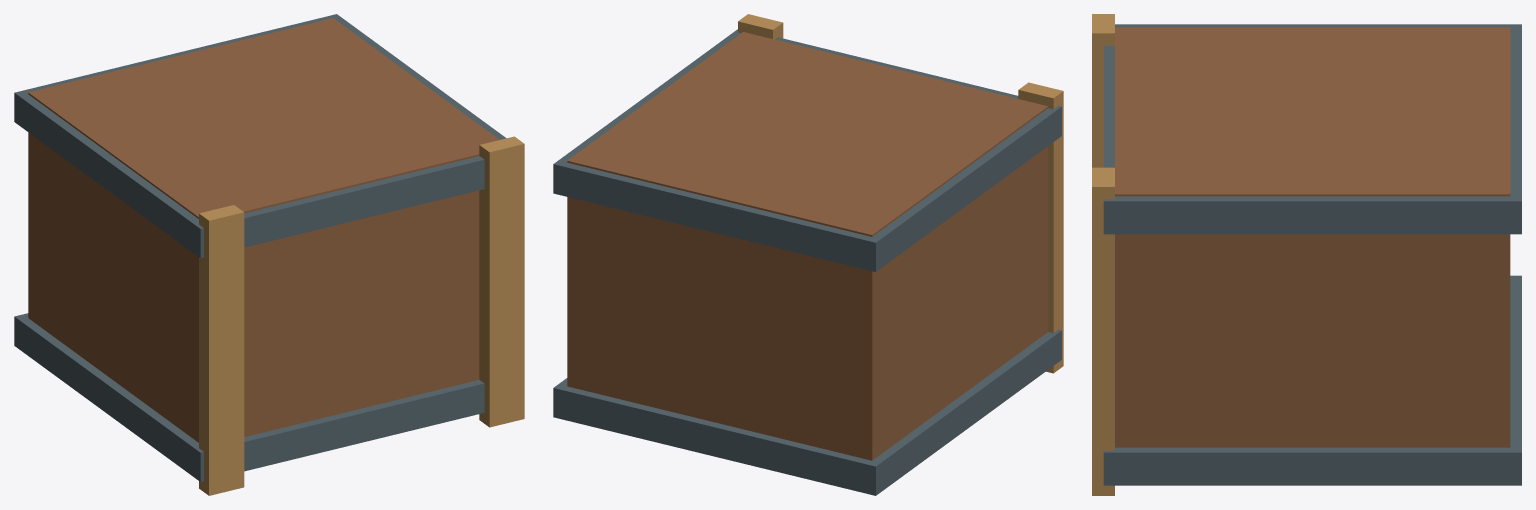
File: storage_crate.glb
The picture shows the model from 3 angles, left to right: view 1: azimuth 30°, elevation 25°; view 2: azimuth 150°, elevation 25°; view 3: azimuth 270°, elevation 25°; orthographic projection. The views are drawn at different scales.
Visible parts, largest first — view 1: crate, band.001, band, brace, brace.001; view 2: crate, band.001, band, brace, brace.001; view 3: crate, band.001, band, brace.001, brace.
Part boxes in pixels (x1,y1,x2,y2): crate: (28,18,499,442); band.001: (14,14,506,258); band: (14,313,484,481); brace: (199,205,244,495); brace.001: (479,136,524,427); crate: (567,32,1048,460); band.001: (553,29,1061,271); band: (553,329,1061,495); brace: (1018,82,1063,373); brace.001: (738,14,783,39); crate: (1115,27,1510,447); band.001: (1103,24,1521,234); band: (1103,275,1521,485); brace.001: (1092,167,1114,495); brace: (1092,14,1114,167).
Bounding box in the file's own units: 0.92 × 0.75 × 0.945.
